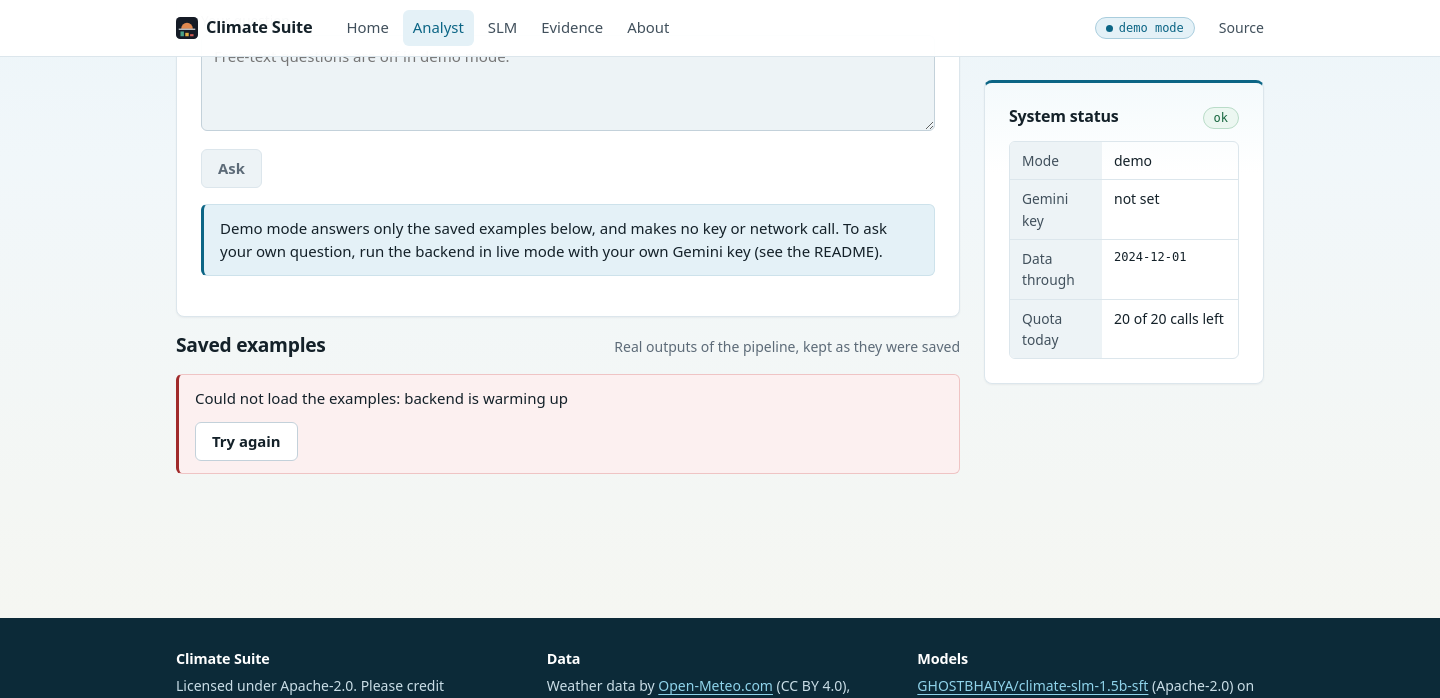
Test: analyst page states › shows an error when the examples cannot be loaded, and a working Try again button
The width and height of the screenshot is (1440, 698).
(page scrolled)
Expected: the message shows "backend is warming up", x1=404 y1=388 x2=568 y2=408
Click the button "Try again". click: (246, 442)
box: x1=195 y1=422 x2=298 y2=461
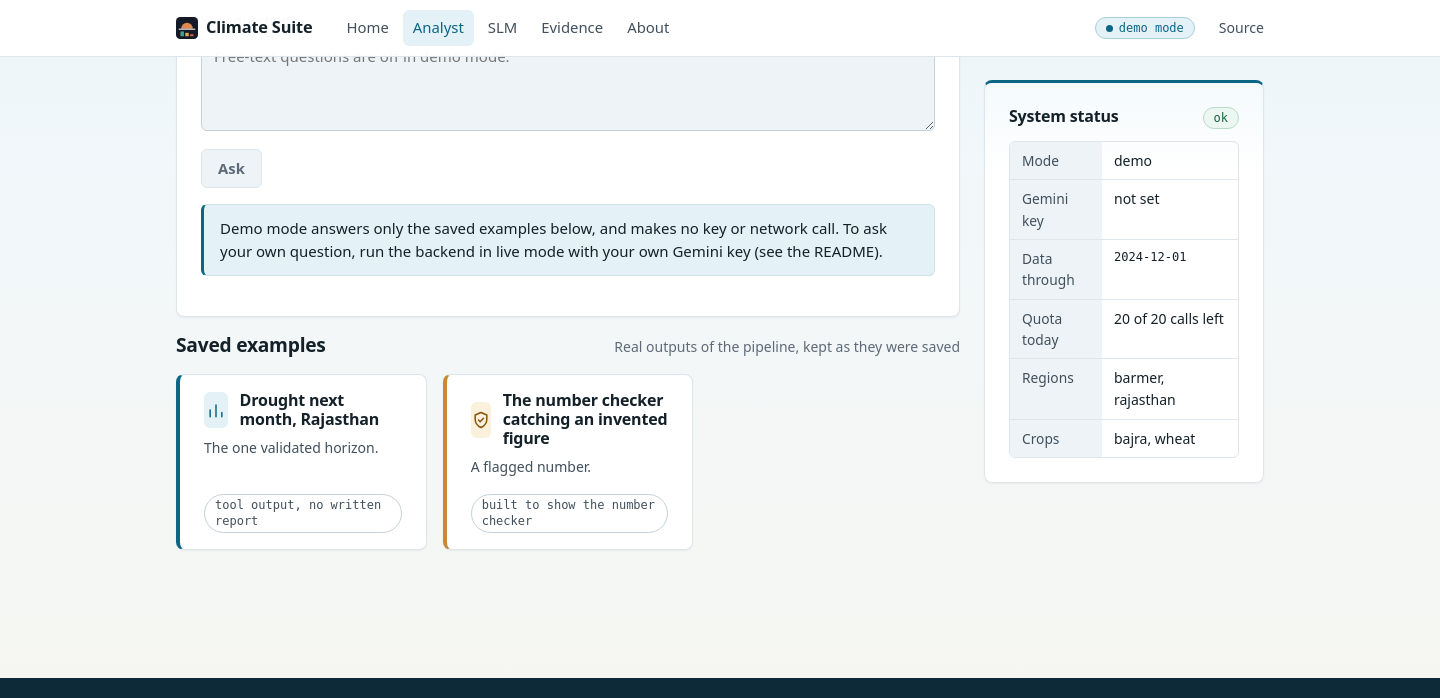
Expected: the heading "Drought next month, Rajasthan" is shown, x1=240 y1=391 x2=402 y2=429
Expected: the message "Could not load the examples: backend is warming up Try again" is gone
